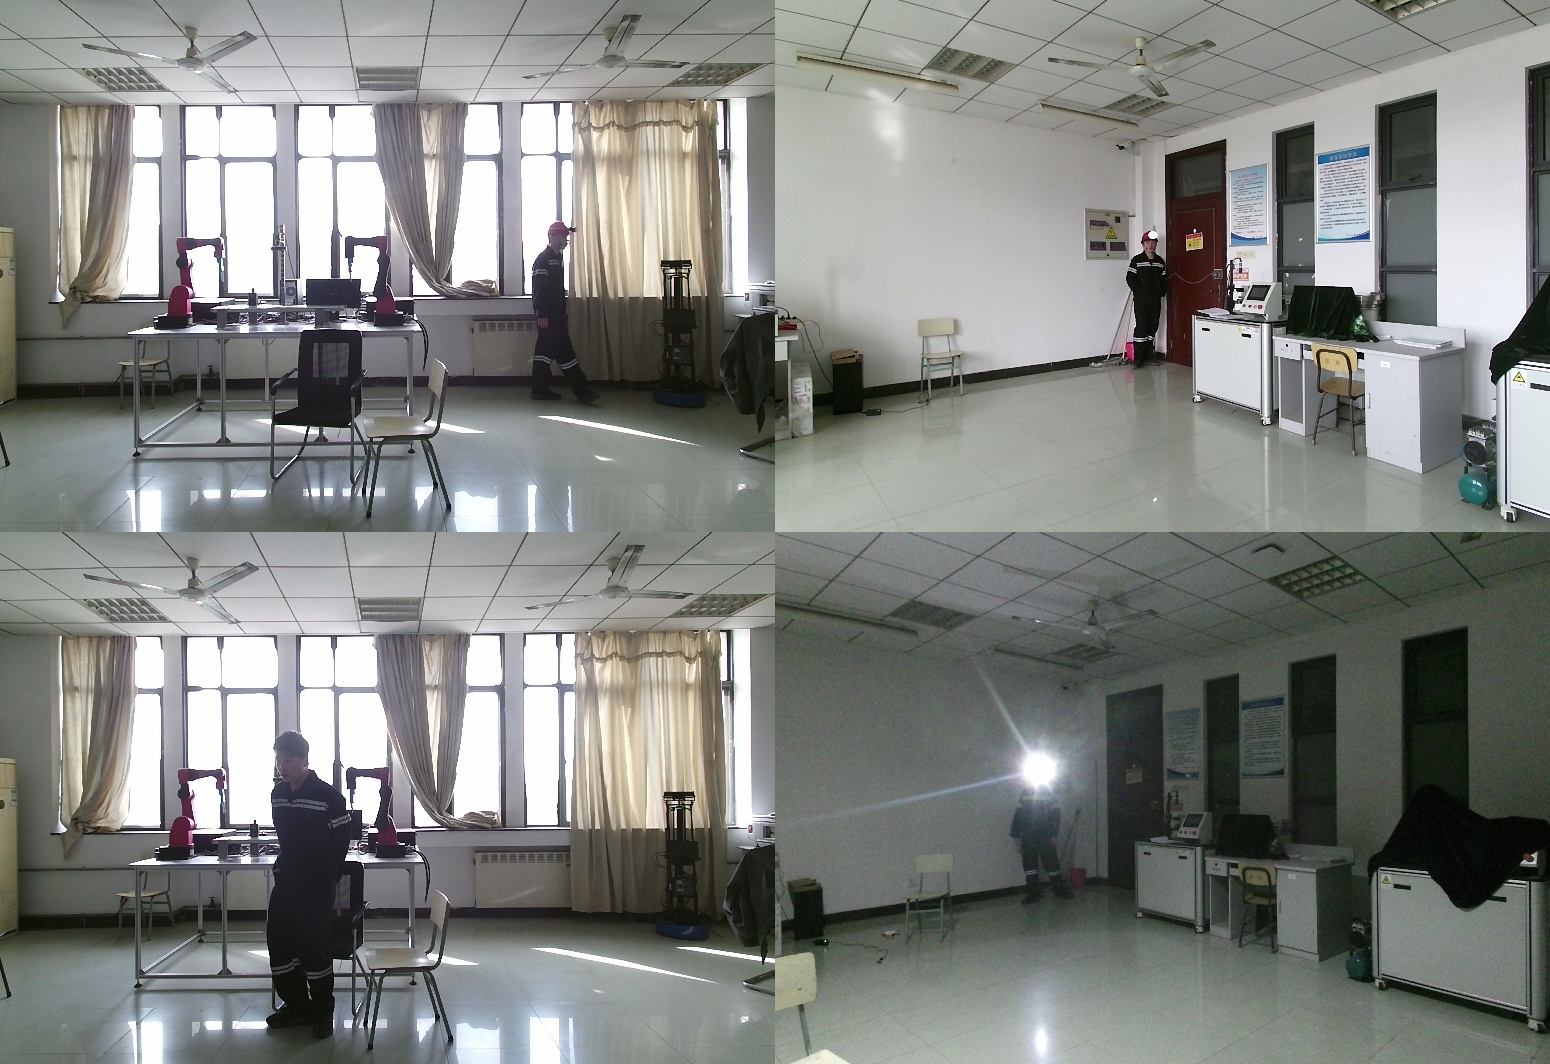person: (264, 731, 364, 1033), (534, 224, 602, 412), (1014, 764, 1071, 907), (1124, 232, 1167, 371)
